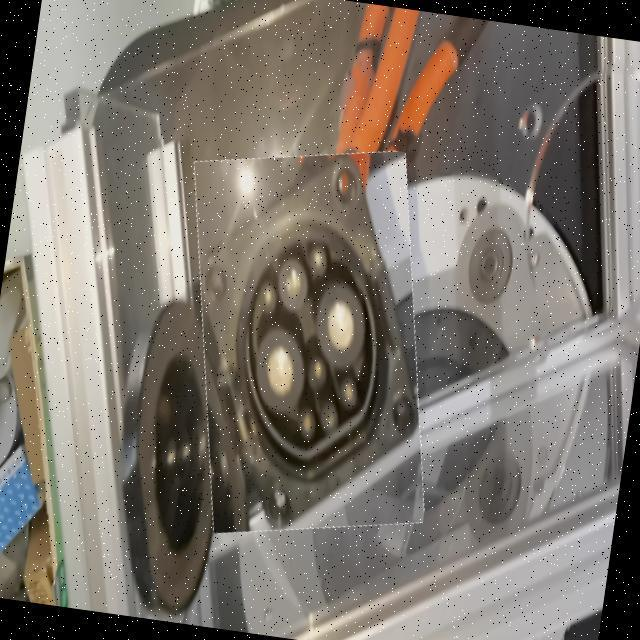GB-T: (192, 210, 428, 494)
